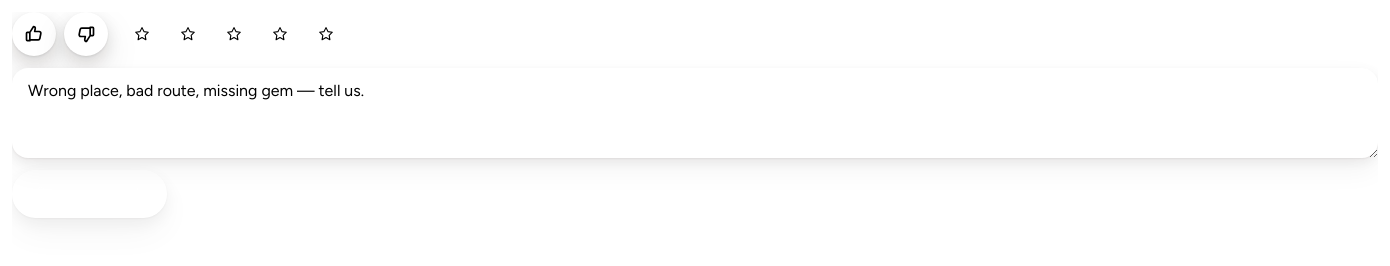
Test: TripFeedbackPanel — composer › shows the generic copy on a network TypeError and preserves prior confirmed state and note
Click the button named "thumbs up": (34,34) [12,12,56,56]
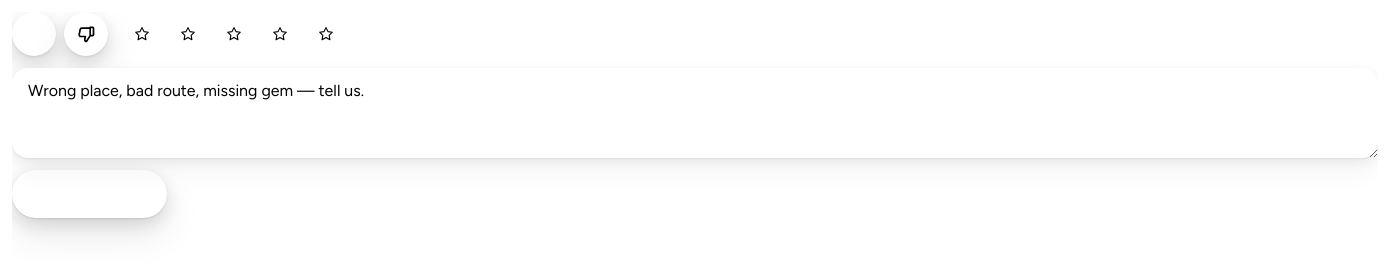
Click the button "Send feedback": (89,194) [12,170,167,218]
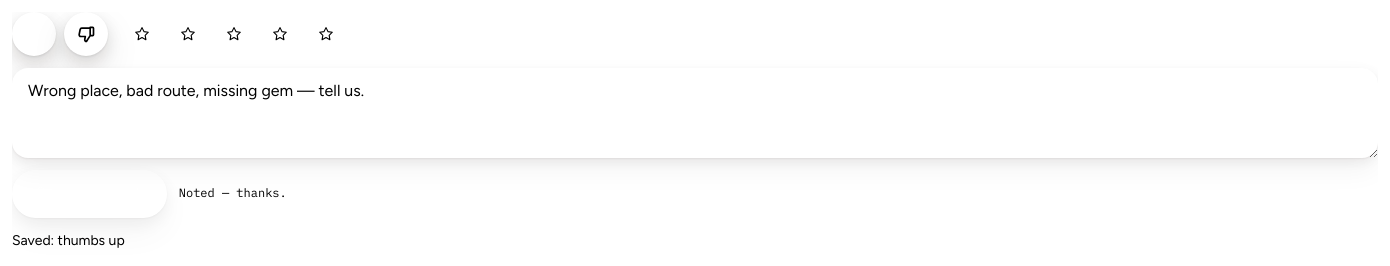
Check: the text "Saved: thumbs up" is shown, box [12,232,125,249]
In the text box: (695,113) [12,68,1378,158], type "follow-up note"
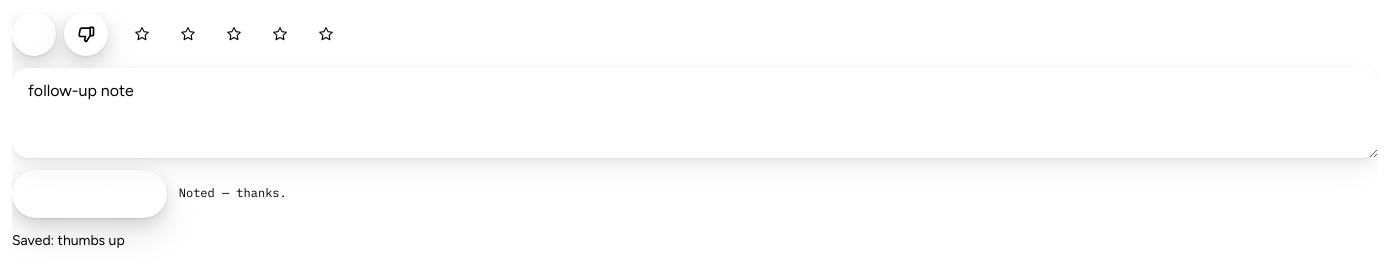
Click the button "Send feedback": (89,194) [12,170,167,218]
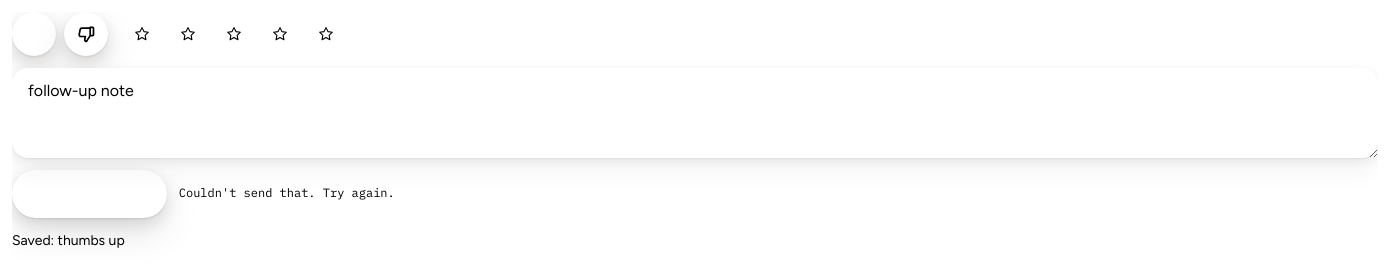
Check: the text "Saved: thumbs up" is shown, box [12,232,125,249]
Check: the text "Couldn't send that. Try again." is shown, box [179,185,395,203]
